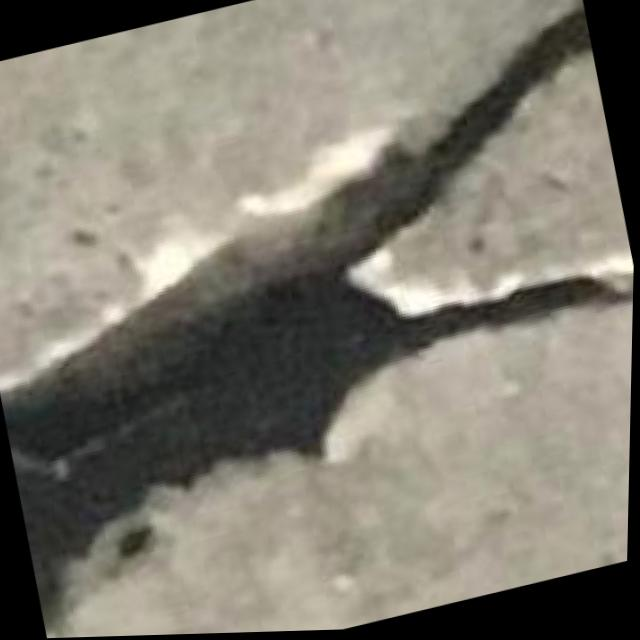Crack: (0, 3, 640, 630)
